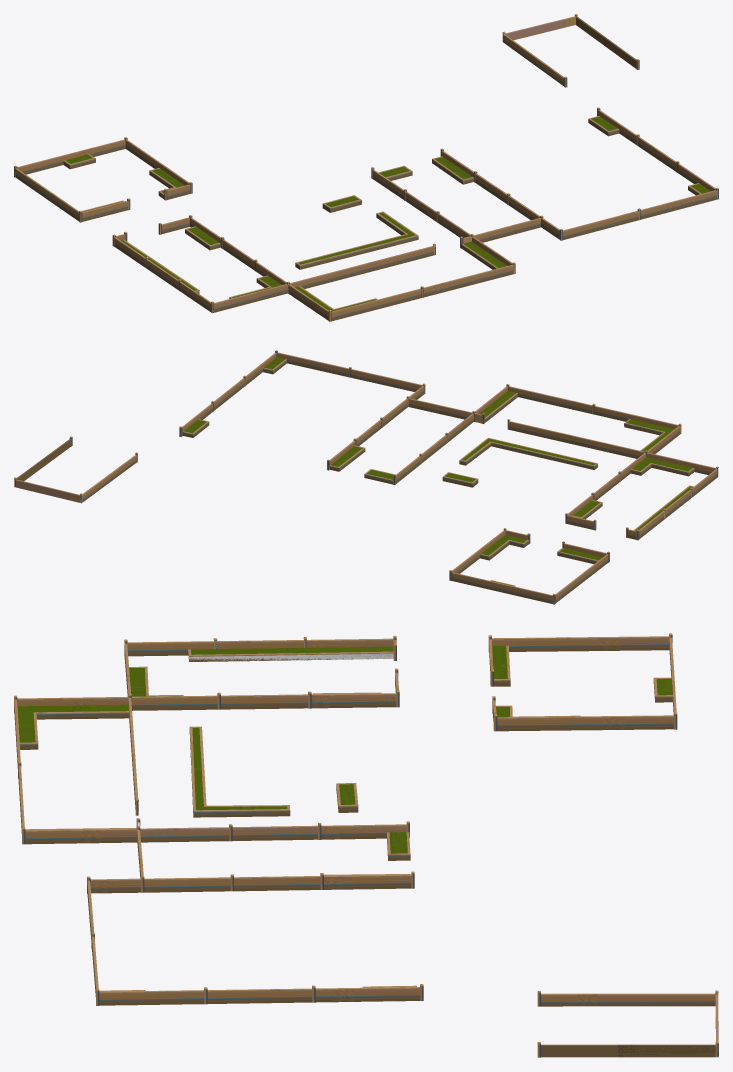
File: objects_un_t09fence01.gltf
The picture shows the model from 3 angles, top to bottom: view 1: azimuth 30°, elevation 25°; view 2: azimuth 150°, elevation 25°; view 3: azimuth 270°, elevation 25°; orthographic projection. The views are drawn at different scales.
Parts seen in each view (by area): view 1: um_objects_un_t09fence01_model_lod1Shape:objects_un_t09fence, um_objects_un_t09fence01_model_lod2Shape:objects_un_t09fence (×2), um_objects_un_t09fence01_model_lod0Shape:objects_un_t09fence; view 2: um_objects_un_t09fence01_model_lod1Shape:objects_un_t09fence, um_objects_un_t09fence01_model_lod2Shape:objects_un_t09fence (×2), um_objects_un_t09fence01_model_lod0Shape:objects_un_t09fence; view 3: um_objects_un_t09fence01_model_lod1Shape:objects_un_t09fence, um_objects_un_t09fence01_model_lod2Shape:objects_un_t09fence (×2), um_objects_un_t09fence01_model_lod0Shape:objects_un_t09fence (×2).
Boxes of the visible parts, bbox=[...] form: um_objects_un_t09fence01_model_lod1Shape:objects_un_t09fence: bbox=[14, 17, 718, 321]; um_objects_un_t09fence01_model_lod2Shape:objects_un_t09fence (×2): bbox=[18, 18, 716, 316]; um_objects_un_t09fence01_model_lod0Shape:objects_un_t09fence: bbox=[14, 14, 718, 312]; um_objects_un_t09fence01_model_lod1Shape:objects_un_t09fence: bbox=[15, 351, 717, 604]; um_objects_un_t09fence01_model_lod2Shape:objects_un_t09fence (×2): bbox=[16, 353, 717, 599]; um_objects_un_t09fence01_model_lod0Shape:objects_un_t09fence: bbox=[14, 350, 718, 596]; um_objects_un_t09fence01_model_lod1Shape:objects_un_t09fence: bbox=[14, 635, 715, 1057]; um_objects_un_t09fence01_model_lod2Shape:objects_un_t09fence (×2): bbox=[14, 637, 715, 1052]; um_objects_un_t09fence01_model_lod0Shape:objects_un_t09fence (×2): bbox=[14, 633, 718, 1057].
Size of the model in its own units: 162 by 3.03 by 118.
3 materials, 2 textured.
